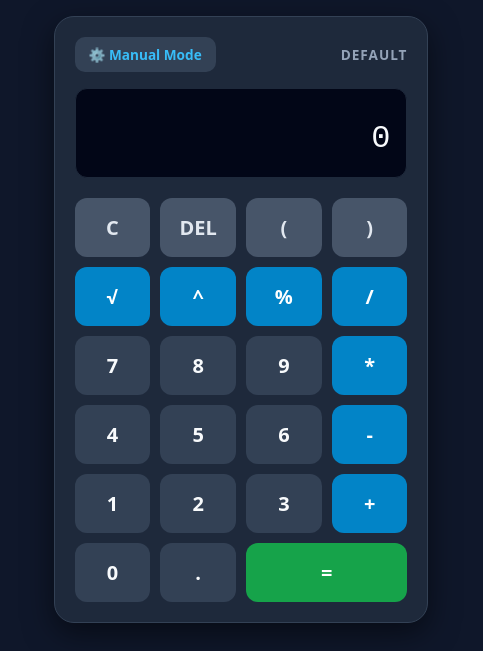
Test case: App Component - Interface & Interactions › must switch to manual mode and return to default
What coordinates should you click on to do the following:
click the button "⚙️ Manual Mode"
I would click on:
 (145, 54)
Its box is [74,36,216,72].
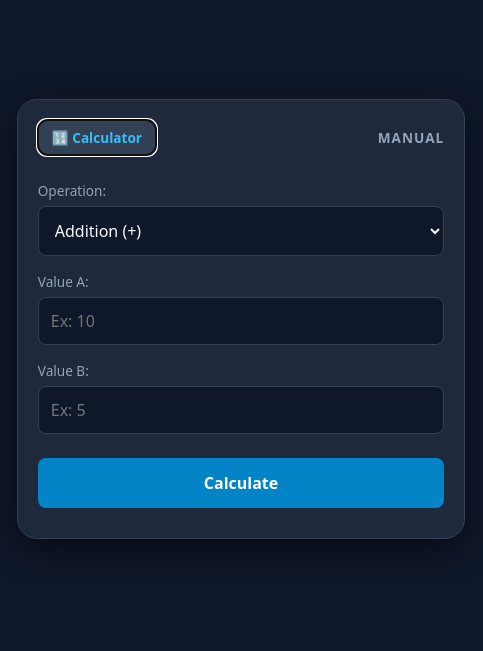
Expected: the text "Manual" is shown, [378,128,444,147]
Expected: the text "Operation:" is shown, [38,181,106,200]
Expected: the text "Value A:" is shown, [38,272,89,291]
// Return to standard mode
What coordinates should you click on to do the following:
click the button "🔢 Calculator"
I would click on:
 (97, 138)
Its box is [38,120,156,155].
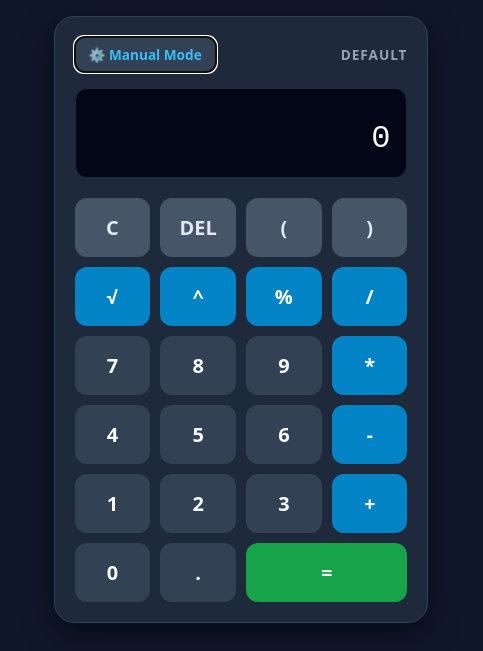
Expected: the text "Default" is shown, [341,44,408,64]
